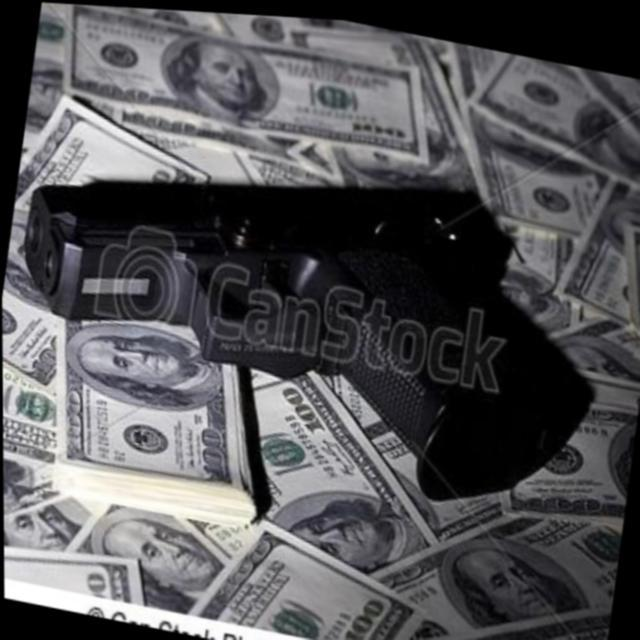weapon: (1, 99, 618, 527)
